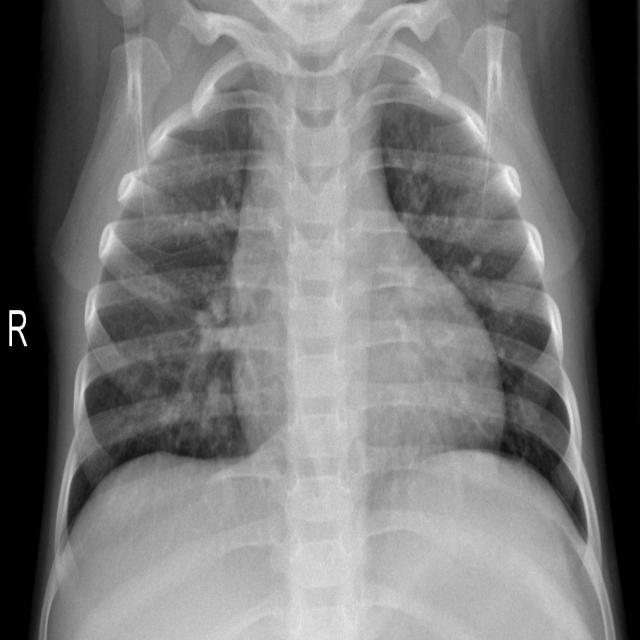low-pneumonia: (177, 291, 237, 449), (167, 177, 235, 261)
